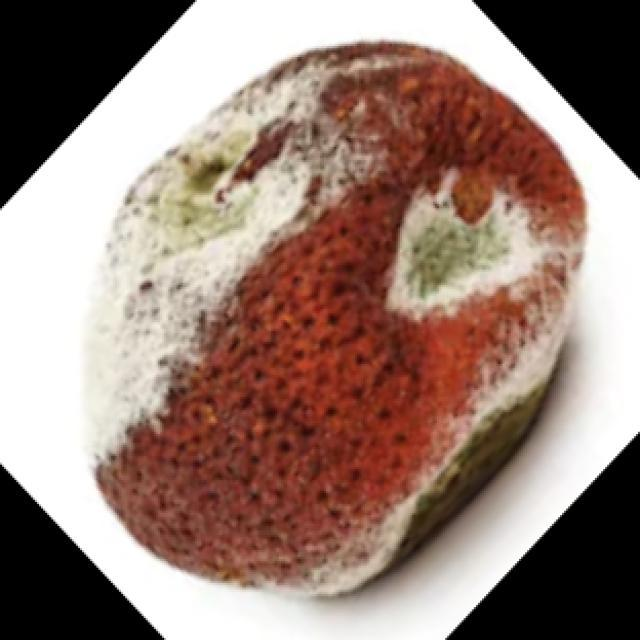sangat-busuk: (86, 42, 586, 594)
sedikit-busuk: (269, 306, 275, 316)
